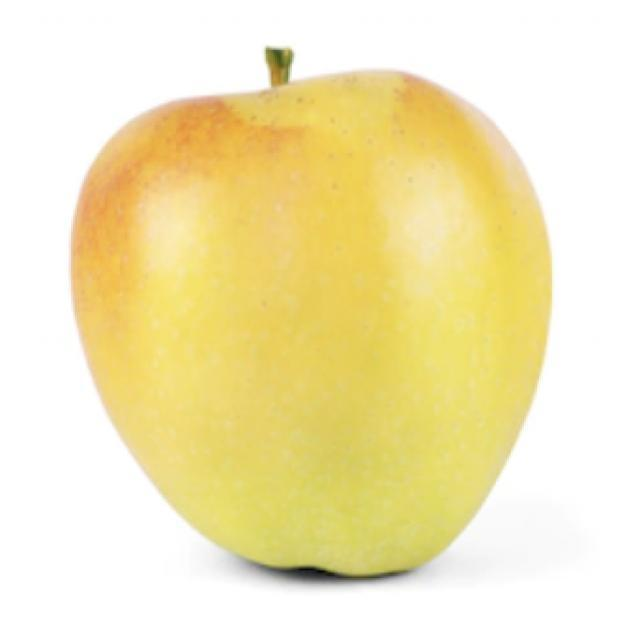Fresh Apple: (88, 75, 567, 568)
